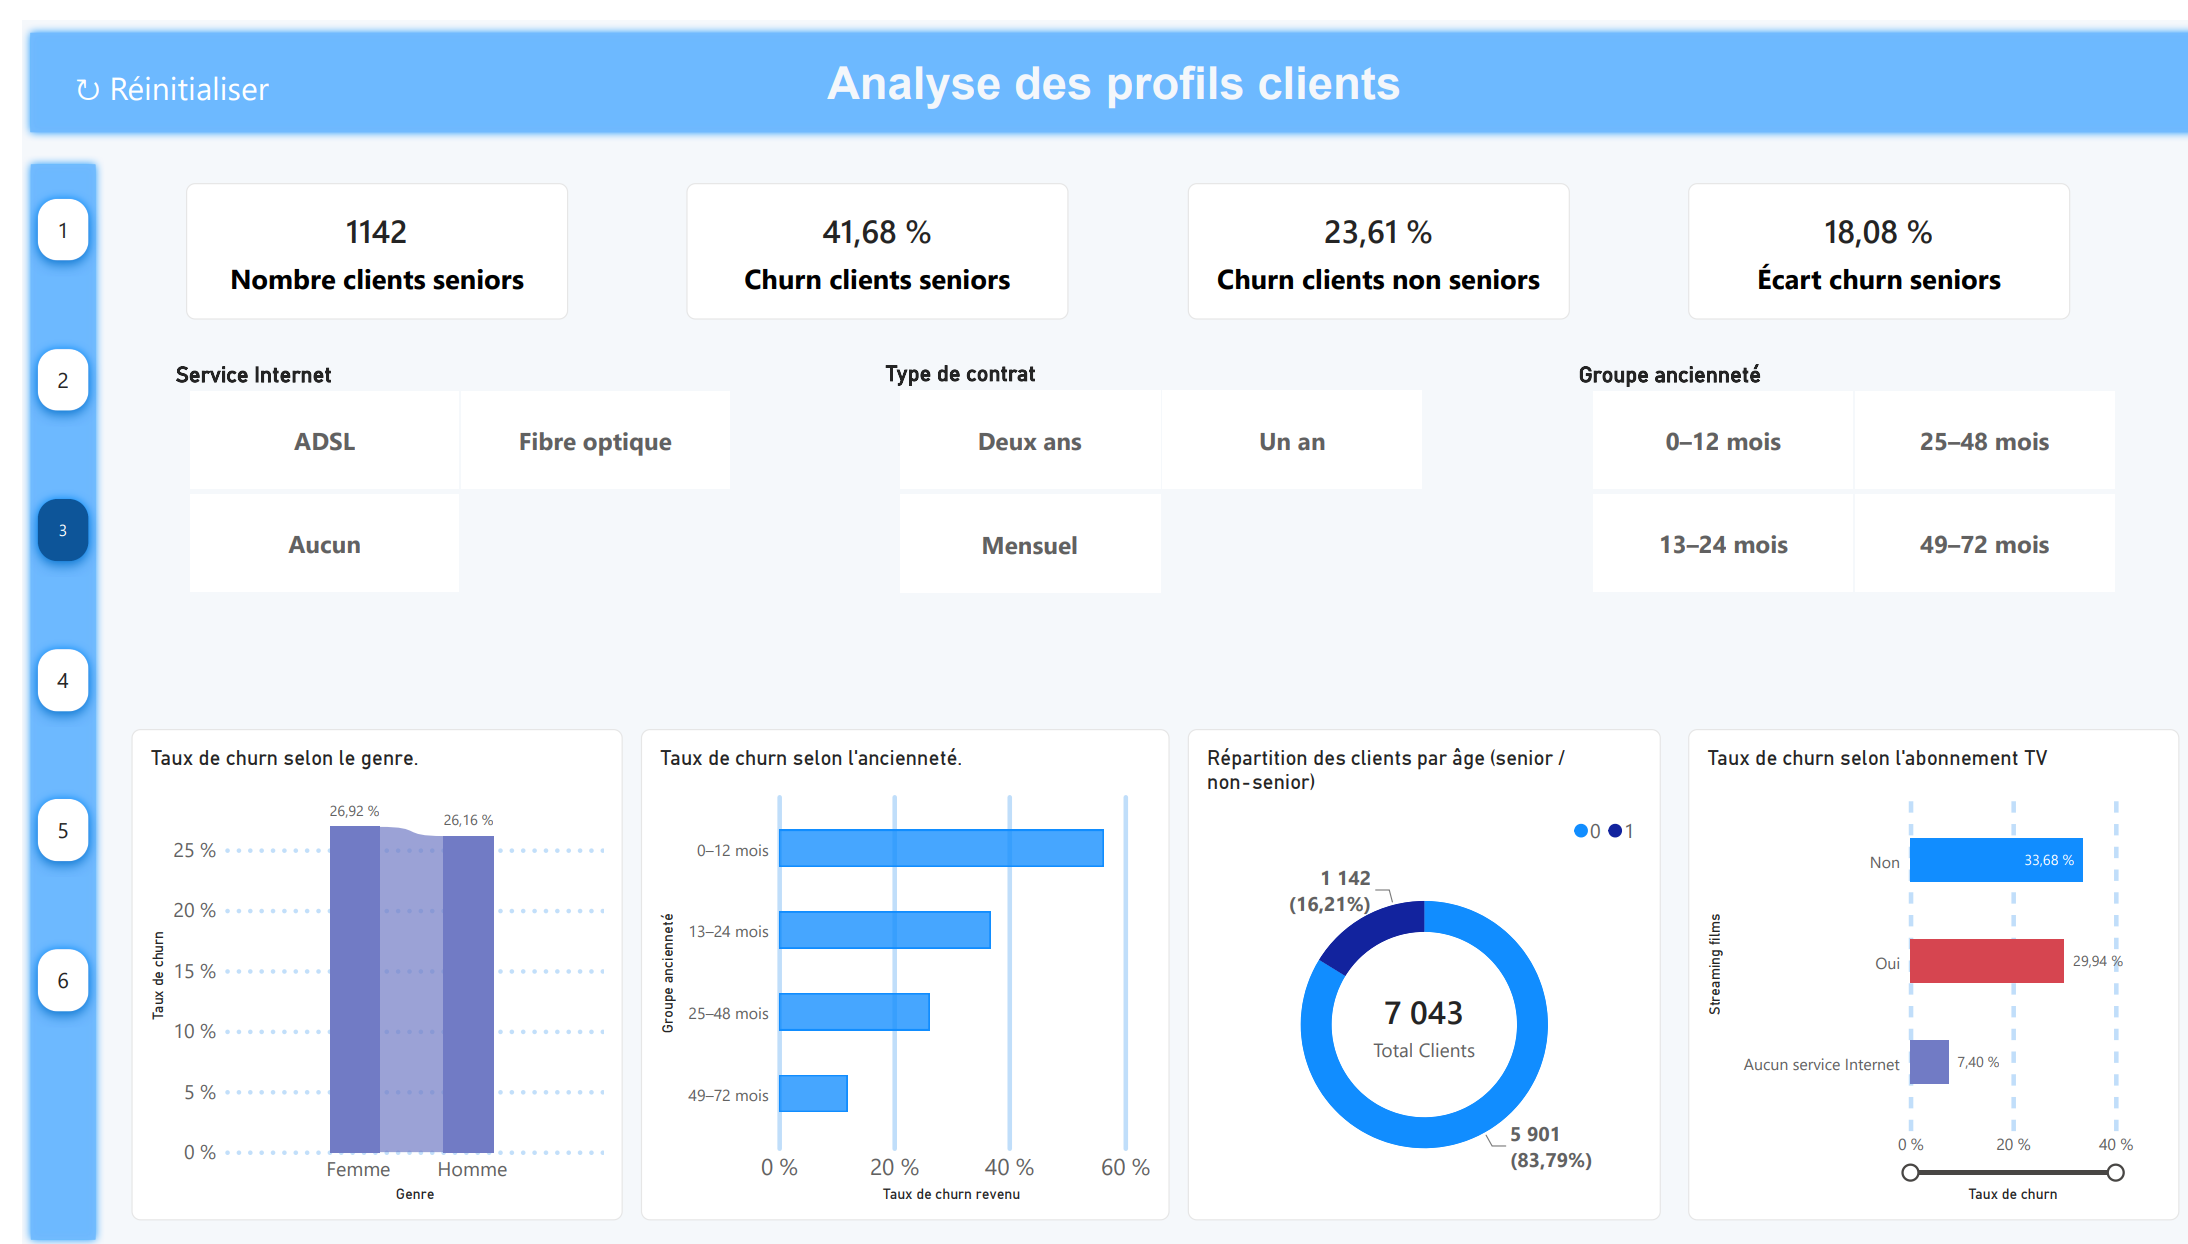

What the dashboard file says about the page in this screenshot:
{"tool":"powerbi","page":{"name":"3","canvas":[1920,1080],"ordinal":2},"visuals":[{"type":"shape","box":[0,3.3,1920,103.3],"z":0},{"type":"shape","box":[0,120,72,960],"z":1000},{"type":"slicer","fields":{"Values":["Clients.Service Internet"]},"box":[126.7,301.4,514,204],"z":2000},{"type":"slicer","fields":{"Values":["Clients.Type de contrat"]},"box":[751.3,300.4,498,206],"z":3000},{"type":"slicer","fields":{"Values":["Clients.Groupe ancienneté"]},"box":[1360,301.4,498,204],"z":4000},{"type":"card","fields":{"Values":["Clients.Nombre clients seniors"]},"box":[144,144,336,120],"z":5000},{"type":"card","fields":{"Values":["Clients.Churn clients seniors"]},"box":[584,144,336,120],"z":6000},{"type":"card","fields":{"Values":["Clients.Churn clients non seniors"]},"box":[1024,144,336,120],"z":7000},{"type":"card","fields":{"Values":["Clients.Écart churn seniors"]},"box":[1464,144,336,120],"z":8000},{"type":"columnChart","title":"Taux de churn selon le genre.","fields":{"Category":["Clients.Genre"],"Y":["Mesures.Taux de churn"]},"box":[96,624,432,432],"z":9000},{"type":"clusteredBarChart","title":"Taux de churn selon l''abonnement TV","fields":{"Category":["Clients.Streaming films"],"Y":["Mesures.Taux de churn"]},"box":[1464,624,432,432],"z":10000},{"type":"clusteredBarChart","title":"Taux de churn selon l''ancienneté.","fields":{"Category":["Clients.Groupe ancienneté"],"Y":["Mesures.Taux de churn revenu"]},"box":[544,624,464,432],"z":11000},{"type":"donutChart","title":"Répartition des clients par âge (senior / non-senior)","fields":{"Category":["Clients.Client senior Hiérarchie.Client senior"],"Y":["Mesures.Total Clients"]},"box":[1024,624,416,432],"z":12000},{"type":"pageNavigator","box":[0,144,72,744],"z":12001},{"type":"actionButton","box":[24,24,216,72],"z":12002}]}

Visuals, with their boxes in screenshot pixels (x1, y1, x2, y2), scaled from the page's 1920x1080 canvas onto the 2188x1244 screenshot:
shape: 0 4 2187 123
shape: 0 138 82 1243
slicer - Clients.Service Internet: 144 347 730 582
slicer - Clients.Type de contrat: 856 346 1424 583
slicer - Clients.Groupe ancienneté: 1550 347 2117 582
card - Clients.Nombre clients seniors: 164 166 547 304
card - Clients.Churn clients seniors: 666 166 1048 304
card - Clients.Churn clients non seniors: 1167 166 1550 304
card - Clients.Écart churn seniors: 1668 166 2051 304
"Taux de churn selon le genre." columnChart: 109 719 602 1216
"Taux de churn selon l''abonnement TV" clusteredBarChart: 1668 719 2161 1216
"Taux de churn selon l''ancienneté." clusteredBarChart: 620 719 1149 1216
"Répartition des clients par âge (senior / non-senior)" donutChart: 1167 719 1641 1216
pageNavigator: 0 166 82 1023
actionButton: 27 28 274 111
